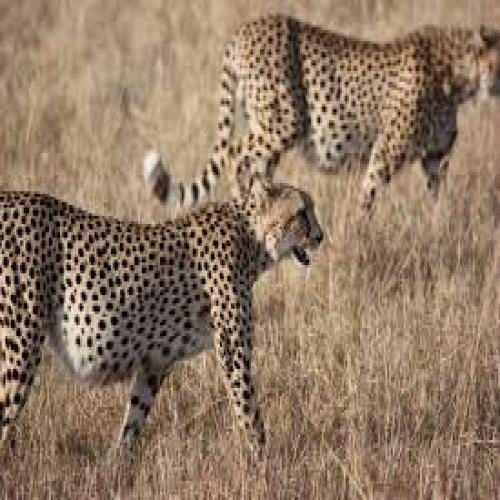cheetah-endangered: (0, 177, 325, 445), (142, 19, 500, 196)
